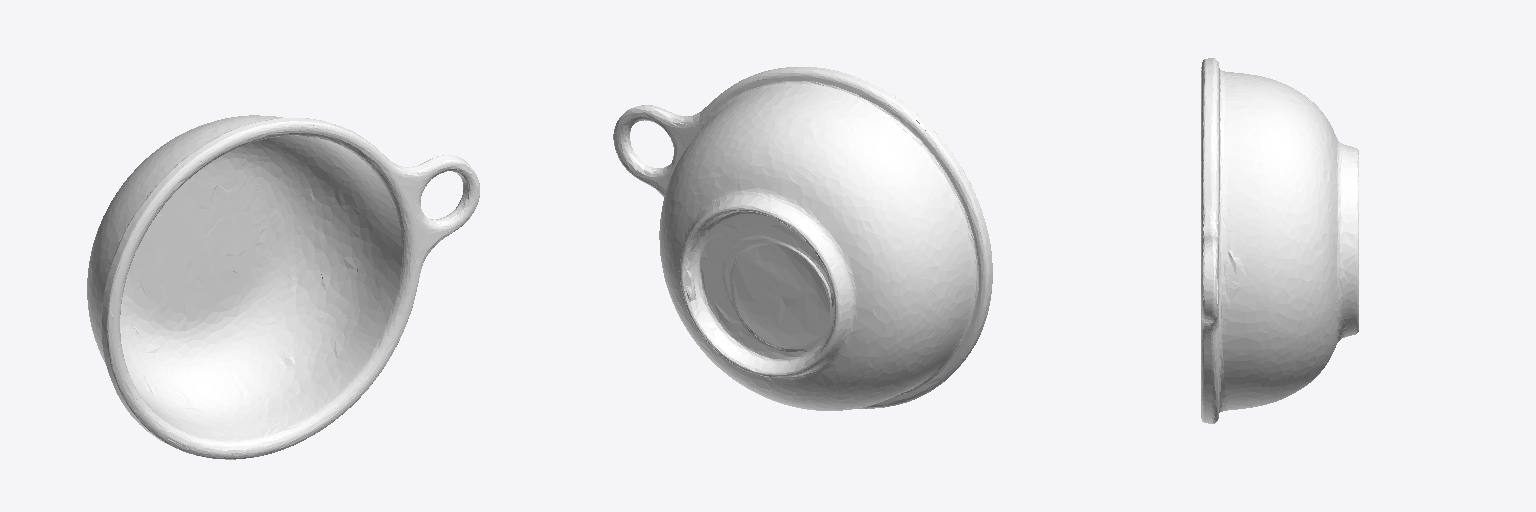
3 views of the same model, side by side, from view 1: azimuth 30°, elevation 25°; view 2: azimuth 150°, elevation 25°; view 3: azimuth 270°, elevation 25° (orthographic).
Parts seen in each view (by area): view 1: [number redacted]_6_wan1; view 2: [number redacted]_6_wan1; view 3: [number redacted]_6_wan1.
Part boxes in pixels (left/top/right/bottom): [number redacted]_6_wan1: left=87, top=115, right=479, bottom=459; [number redacted]_6_wan1: left=613, top=67, right=992, bottom=410; [number redacted]_6_wan1: left=1201, top=58, right=1358, bottom=423.
Size of the model in its own units: 135 by 114 by 49.31.